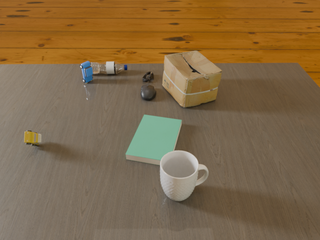book: (126, 115, 182, 165)
bottle: (90, 62, 127, 74)
box: (162, 51, 222, 107)
cup: (160, 151, 208, 201)
mouse: (141, 85, 156, 100)
toy_car: (80, 61, 93, 83), (24, 130, 41, 146)
